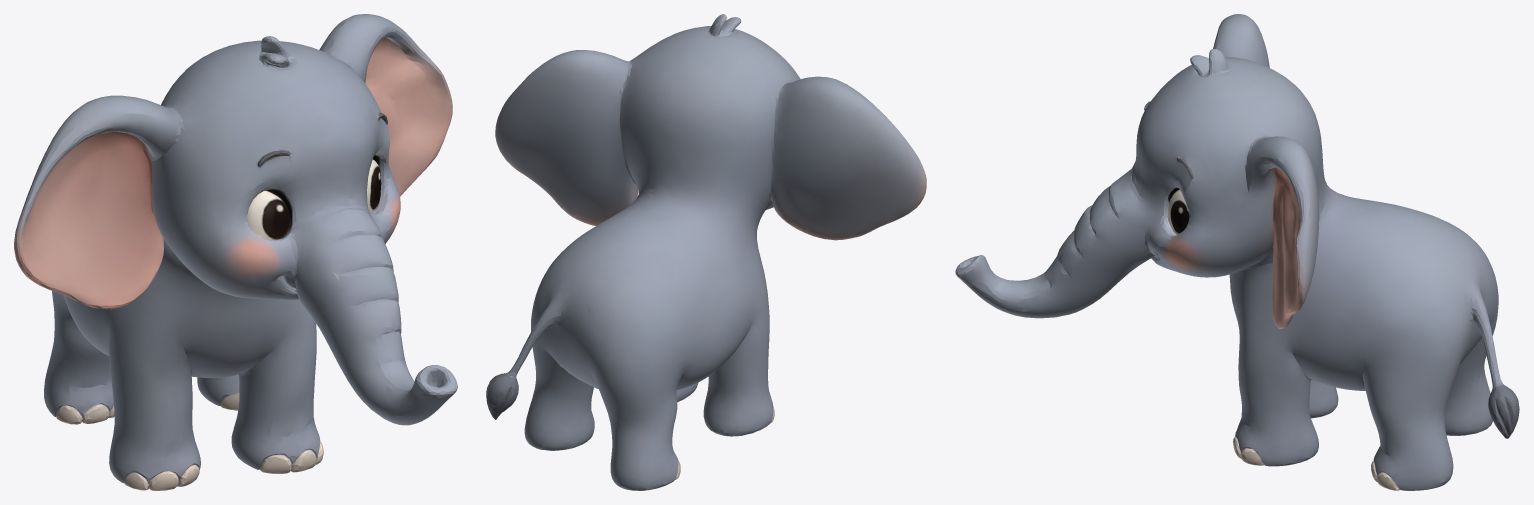
File: elephant.glb
3 renders of one model, left to right at view 1: azimuth 30°, elevation 25°; view 2: azimuth 150°, elevation 25°; view 3: azimuth 270°, elevation 25°, orthographic. The views are drawn at different scales.
Visible parts, largest first — view 1: Mesh; view 2: Mesh; view 3: Mesh.
Part boxes in pixels (x1,y1,x2,y2): Mesh: (14,14,457,490); Mesh: (486,14,926,490); Mesh: (955,14,1519,490).
Bounding box in the file's own units: 1.59 × 1.46 × 1.89.
1 material, 1 textured.
